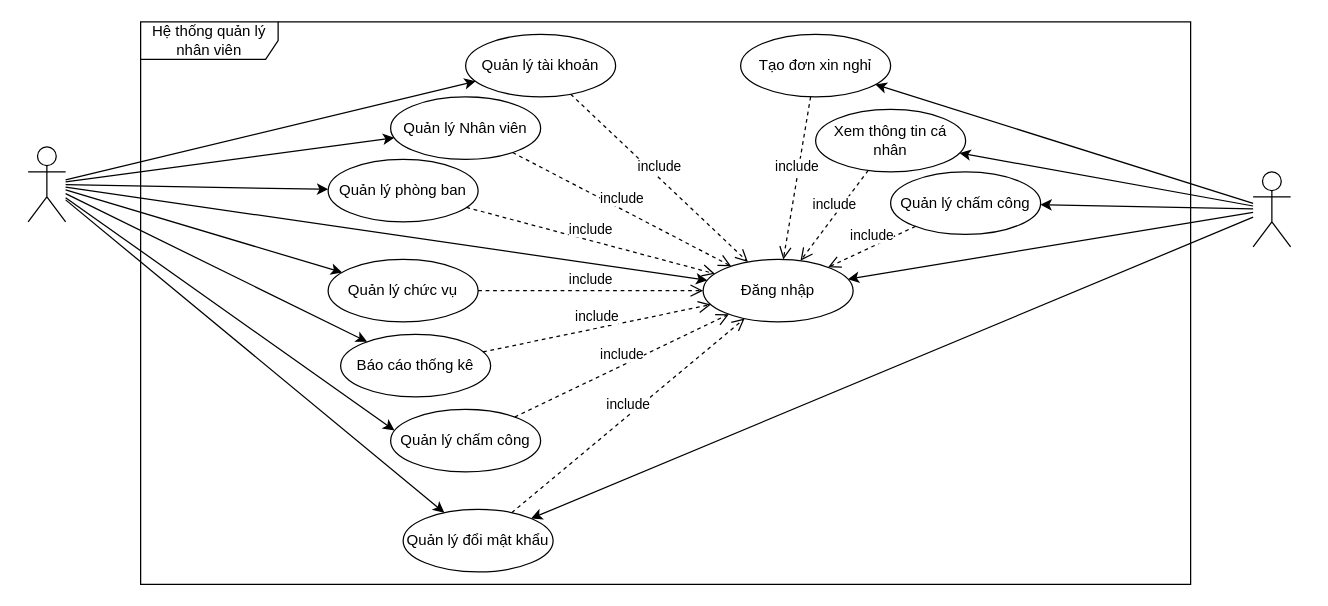
The diagram is 1328 pixels wide and 606 high, and some of its shapes have lost their labels. Here are the shapes that lost their labels. From the top down, the box of each, then its label:
(27, 146, 66, 222): Quản lý
(1252, 171, 1291, 247): Nhân viên
